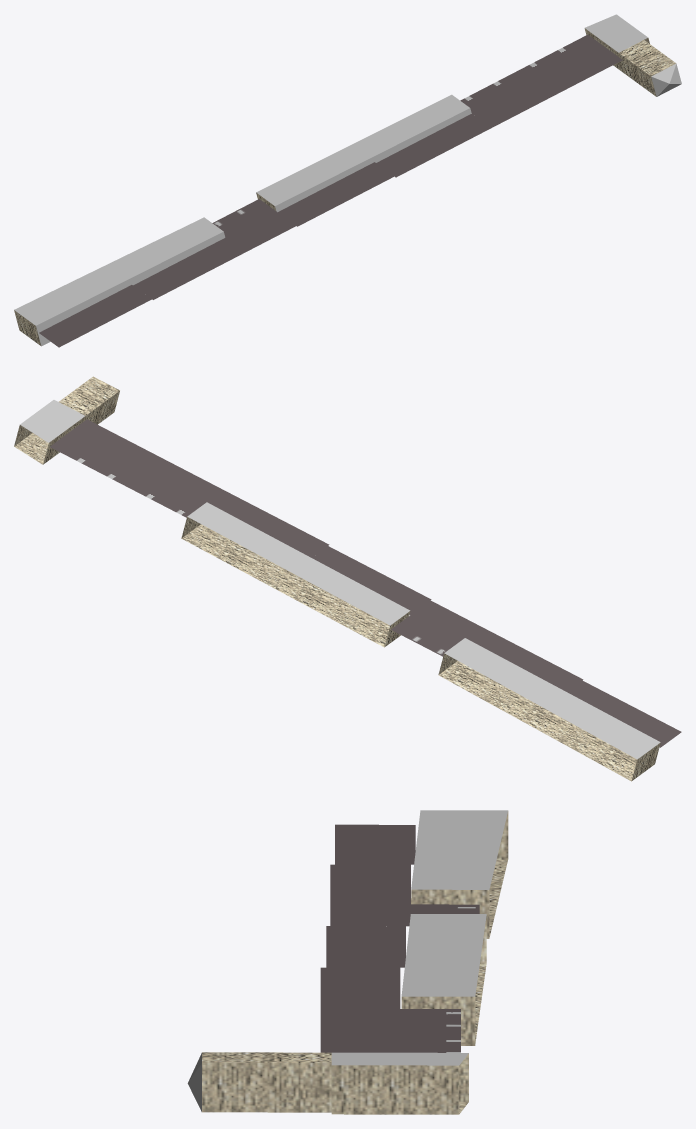
File: Wismari 9_aed.obj
3 views of the same model, one above another, from view 1: azimuth 30°, elevation 25°; view 2: azimuth 150°, elevation 25°; view 3: azimuth 270°, elevation 25° (orthographic). The views are drawn at different scales.
Visible parts, largest first — view 1: Wismari_9_aed; view 2: Wismari_9_aed; view 3: Wismari_9_aed.
Part boxes in pixels (<box>): Wismari_9_aed: <box>14,14,681,347</box>; Wismari_9_aed: <box>14,376,681,781</box>; Wismari_9_aed: <box>187,810,508,1114</box>.
Bounding box in the file's own units: 15.99 × 4.68 × 3.73.
